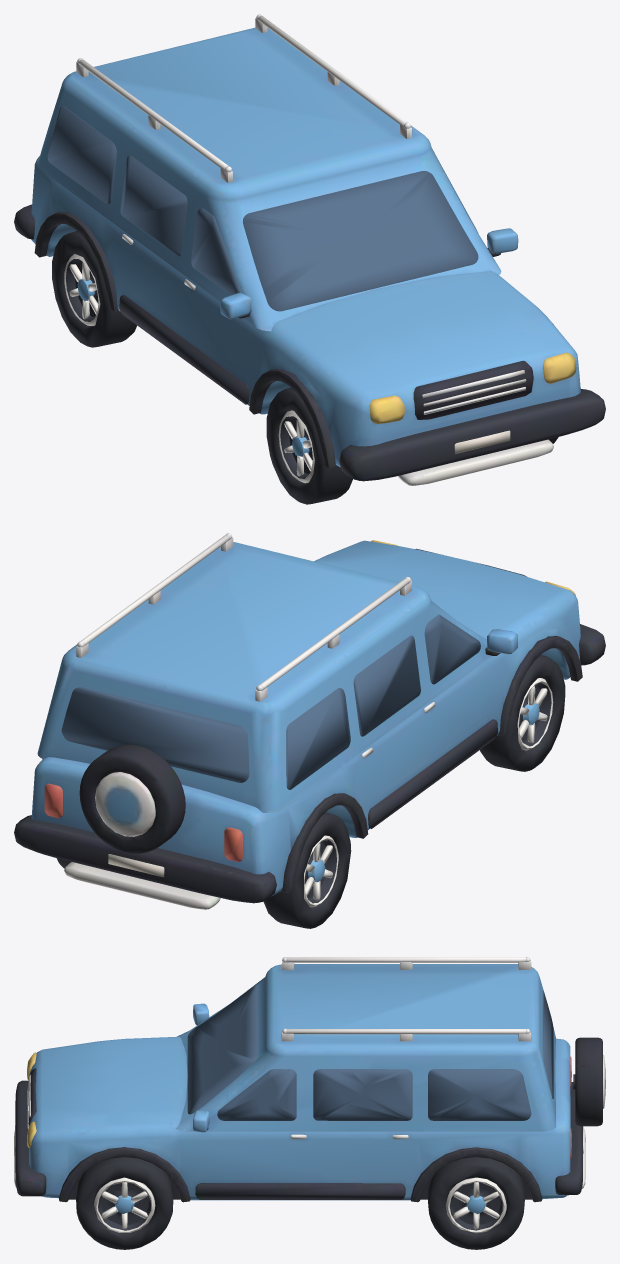
The model's file is suv.glb.
The picture shows the model from 3 angles, top to bottom: view 1: azimuth 30°, elevation 25°; view 2: azimuth 150°, elevation 25°; view 3: azimuth 270°, elevation 25°; orthographic projection. The views are drawn at different scales.
Parts seen in each view (by area): view 1: suv_body, suv_windows, suv_wheel_fl; view 2: suv_body, suv_windows, suv_wheel_fl; view 3: suv_body, suv_windows, suv_wheel_fl.
Part boxes in pixels (x1=…): suv_body: x1=14, y1=14, x2=605, y2=485; suv_windows: x1=47, y1=106, x2=478, y2=311; suv_wheel_fl: x1=52, y1=231, x2=558, y2=504; suv_body: x1=14, y1=533, x2=605, y2=909; suv_windows: x1=61, y1=614, x2=480, y2=789; suv_wheel_fl: x1=56, y1=655, x2=565, y2=928; suv_body: x1=14, y1=957, x2=605, y2=1202; suv_windows: x1=187, y1=986, x2=553, y2=1120; suv_wheel_fl: x1=76, y1=1157, x2=525, y2=1249.
Bounding box in the file's own units: 2.17 × 1.82 × 4.65.
6 materials, 1 textured.
